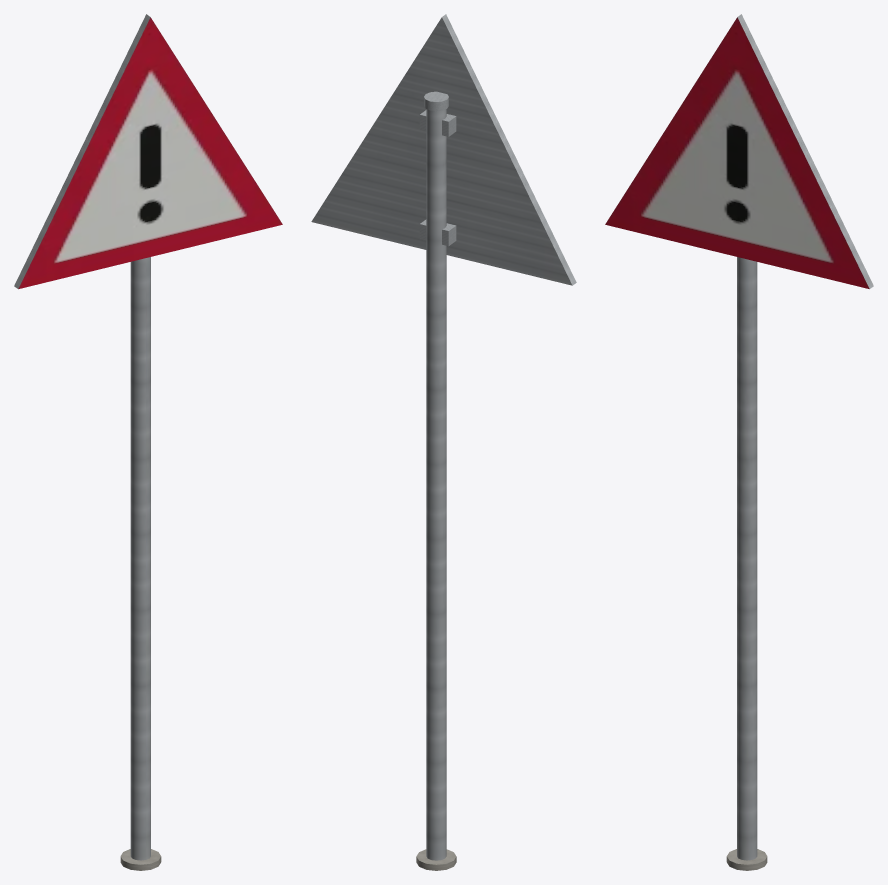
Rendered from panneau_danger_lod0.glb.
3 renders of one model, left to right at view 1: azimuth 30°, elevation 25°; view 2: azimuth 150°, elevation 25°; view 3: azimuth 330°, elevation 25°, orthographic.
Parts seen in each view (by area): view 1: panneau_danger; view 2: panneau_danger; view 3: panneau_danger.
Boxes of the visible parts, <box> form: panneau_danger: <box>14,14,282,870</box>; panneau_danger: <box>311,14,576,870</box>; panneau_danger: <box>605,14,873,870</box>.
Bounding box in the file's own units: 0.9001 × 2.77 × 0.12.
Materials: 1 (1 with a texture image).
